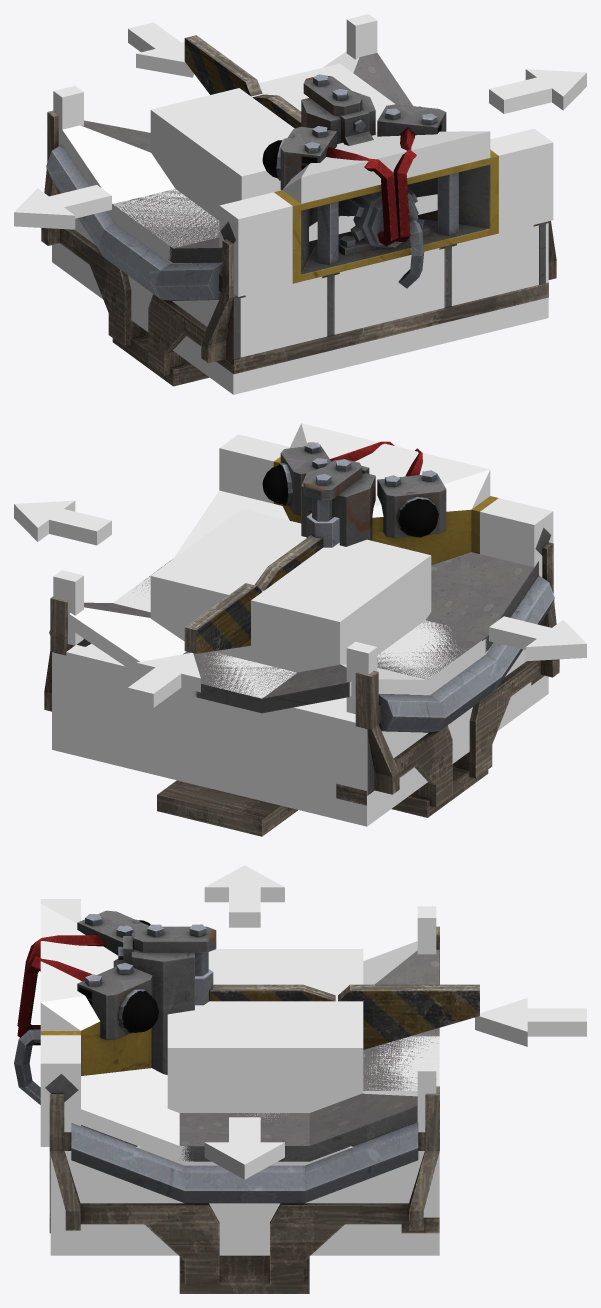
File: ConveyorSplitterT2.glb
The picture shows the model from 3 angles, top to bottom: view 1: azimuth 30°, elevation 25°; view 2: azimuth 150°, elevation 25°; view 3: azimuth 270°, elevation 25°; orthographic projection. The views are drawn at different scales.
Parts seen in each view (by area): view 1: SplitterT2_Col, SplitterT2, SplitterTrigger, SplitterT2Wiper, ghostarrow (1), ghostarrow, ghostarrow (2); view 2: SplitterT2_Col, SplitterT2, SplitterTrigger, SplitterT2Wiper, ghostarrow, ghostarrow (1), ghostarrow (2); view 3: SplitterT2, SplitterT2_Col, SplitterTrigger, SplitterT2Wiper, ghostarrow (2), ghostarrow (1), ghostarrow.
Part boxes in pixels (x1=…): SplitterT2_Col: x1=52, y1=14, x2=553, y2=394; SplitterT2: x1=41, y1=53, x2=556, y2=386; SplitterTrigger: x1=150, y1=63, x2=395, y2=220; SplitterT2Wiper: x1=184, y1=35, x2=301, y2=128; ghostarrow (1): x1=14, y1=185, x2=111, y2=229; ghostarrow: x1=489, y1=69, x2=586, y2=113; ghostarrow (2): x1=128, y1=22, x2=193, y2=77; SplitterT2_Col: x1=52, y1=423, x2=553, y2=826; SplitterT2: x1=44, y1=441, x2=559, y2=836; SplitterTrigger: x1=150, y1=509, x2=431, y2=672; SplitterT2Wiper: x1=184, y1=513, x2=339, y2=653; ghostarrow: x1=14, y1=500, x2=111, y2=545; ghostarrow (1): x1=489, y1=616, x2=586, y2=661; ghostarrow (2): x1=128, y1=652, x2=200, y2=707; SplitterT2: x1=14, y1=910, x2=439, y2=1293; SplitterT2_Col: x1=40, y1=899, x2=439, y2=1255; SplitterTrigger: x1=167, y1=949, x2=363, y2=1112; SplitterT2Wiper: x1=195, y1=969, x2=479, y2=1049; ghostarrow (2): x1=475, y1=998, x2=586, y2=1046; ghostarrow (1): x1=204, y1=865, x2=284, y2=927; ghostarrow: x1=204, y1=1117, x2=284, y2=1179.
Size of the model in its own units: 1.82 by 0.8018 by 1.47.
7 materials, 2 textured.
